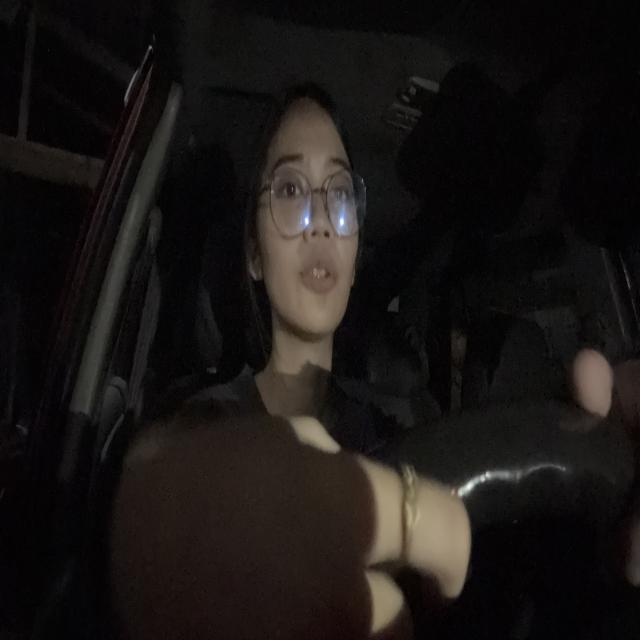open: (271, 153, 314, 215), (323, 154, 354, 222)
